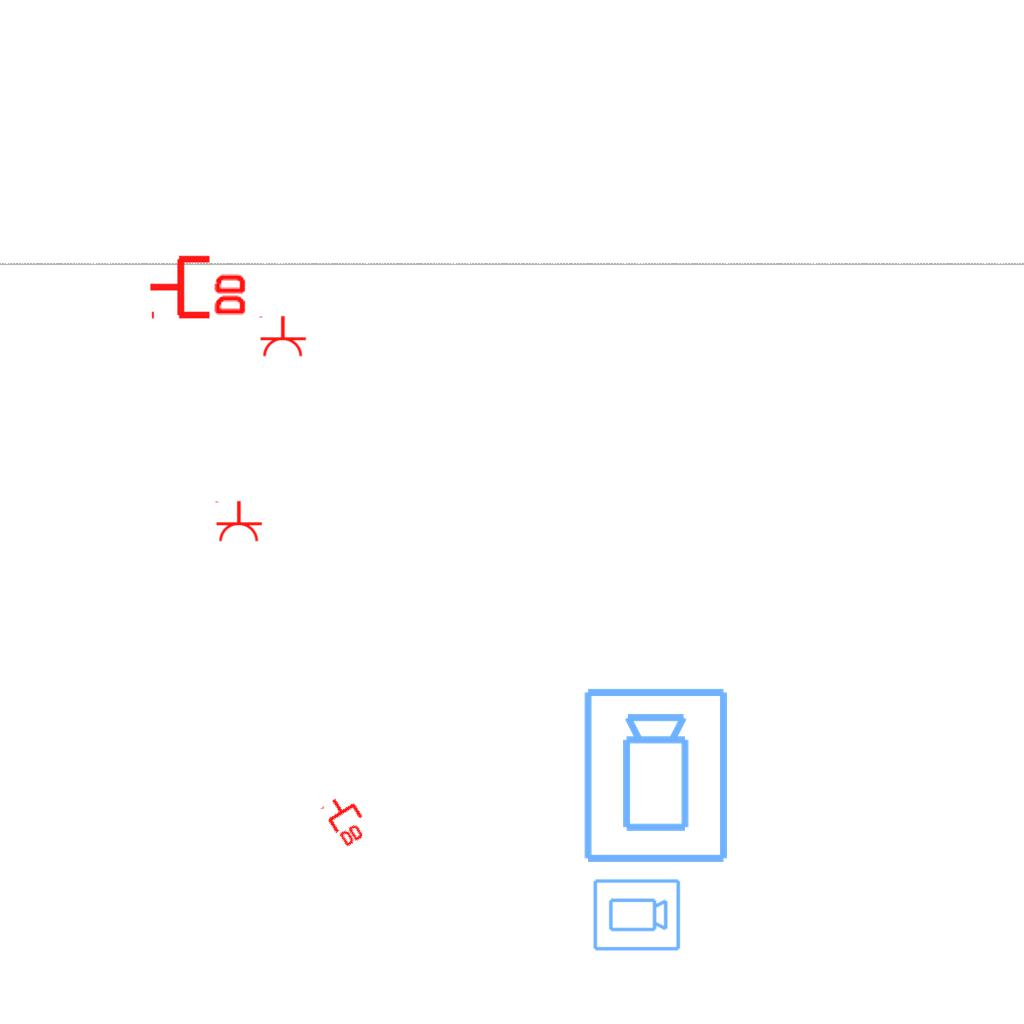Datenanschluss_zweifach: (147, 251, 250, 320), (319, 788, 375, 851)
KFO_Kamera_mit_Festobjektiv: (580, 685, 734, 867), (591, 877, 682, 954)
Schukosteckdose_einfach: (213, 500, 263, 543), (257, 315, 307, 358)
